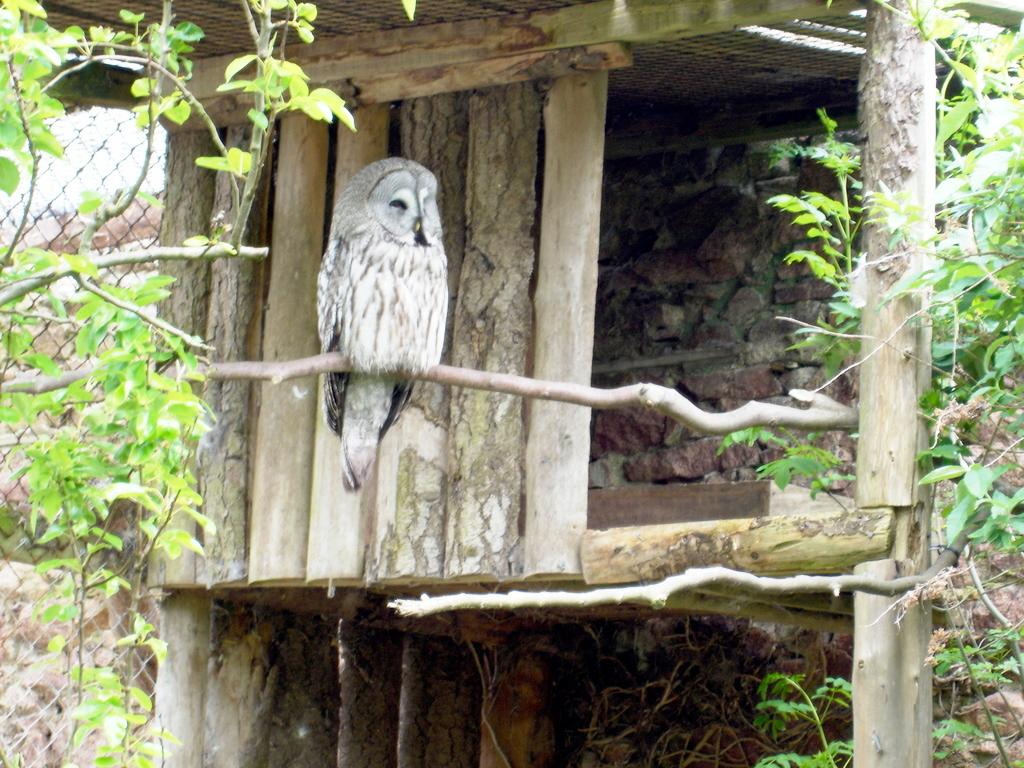Owl: (315, 158, 450, 495)
